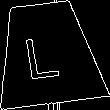L_N: (27, 26, 68, 80)
